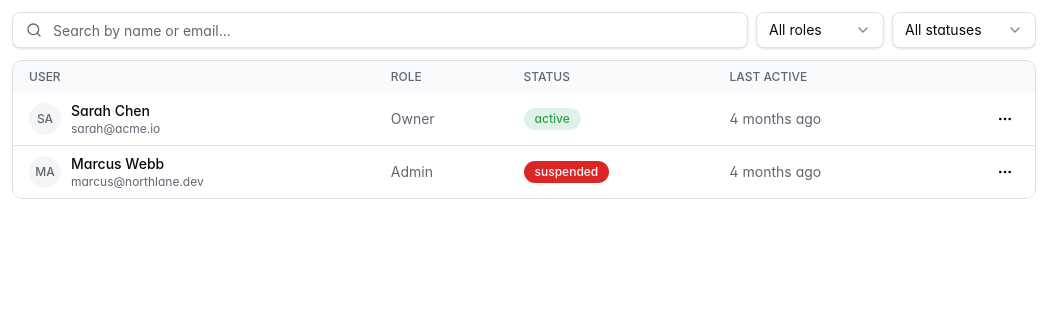
Test case: UserManagementTable › shows an empty state when no users match
The width and height of the screenshot is (1048, 315).
In the field named "Search users": (380, 30) [12,12,748,48], type "nobody"
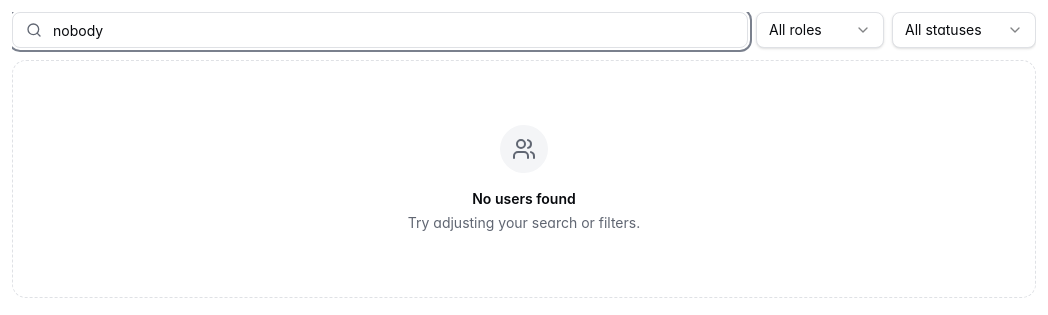
Expected: the heading "No users found" is shown, [472,189,576,209]
